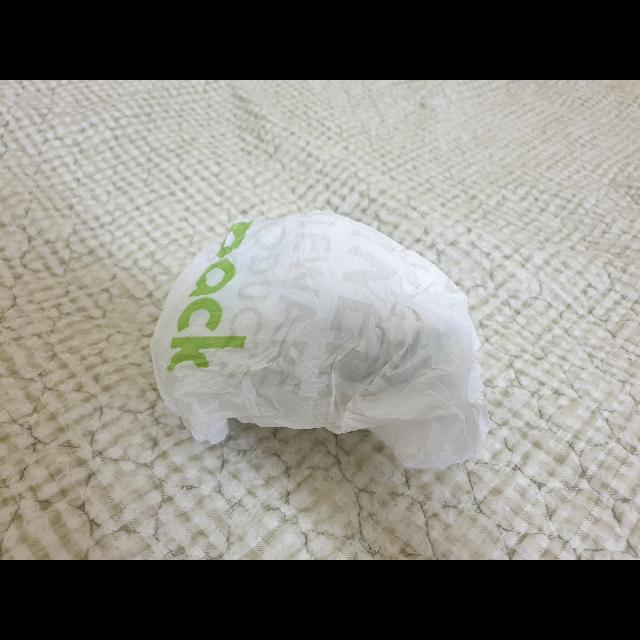plastic_bag: (142, 202, 502, 478)
